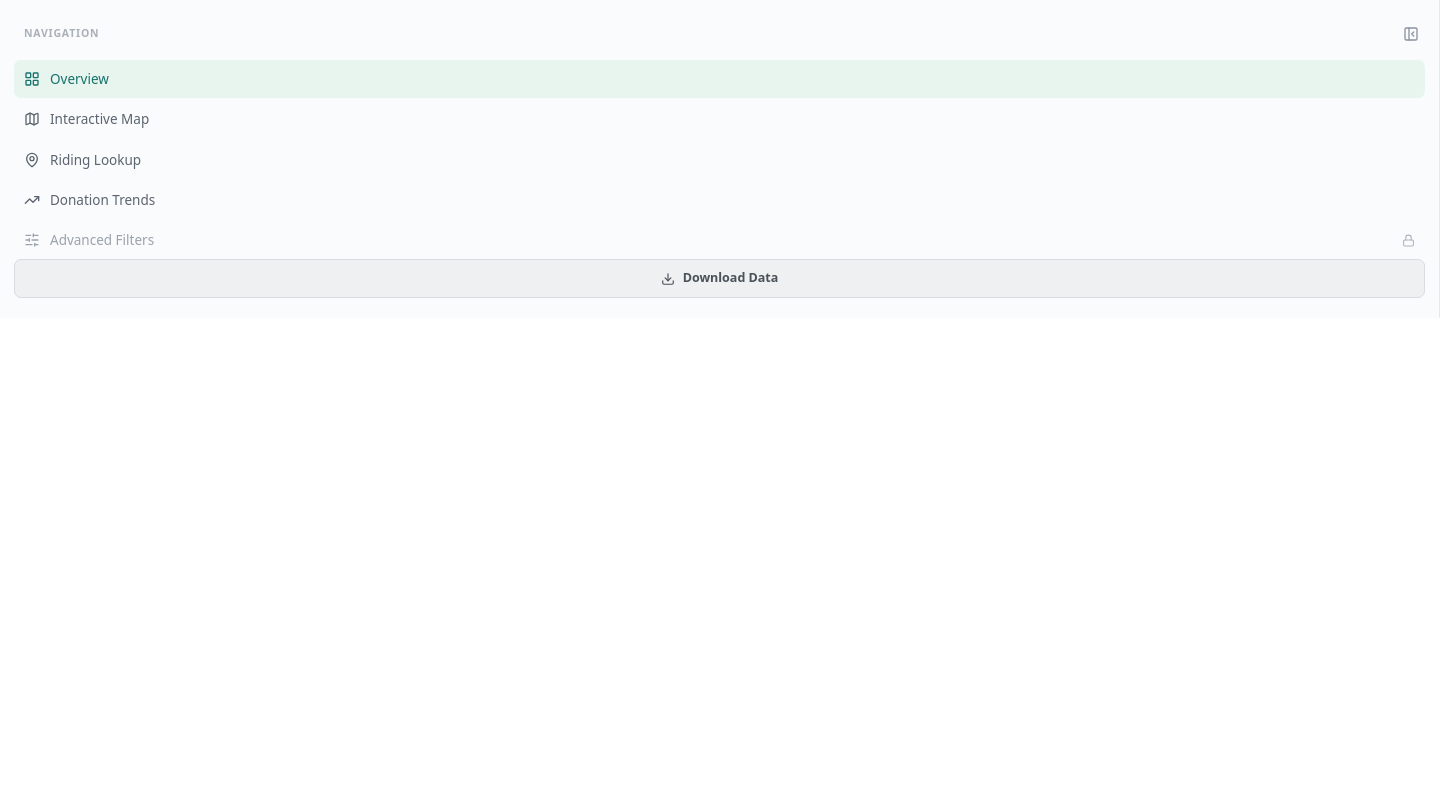
Test: Sidebar — locked dialog › opens a sign-in dialog when the locked item is clicked
Click the button "Advanced Filters" at (102, 240), box [14, 221, 1425, 259]
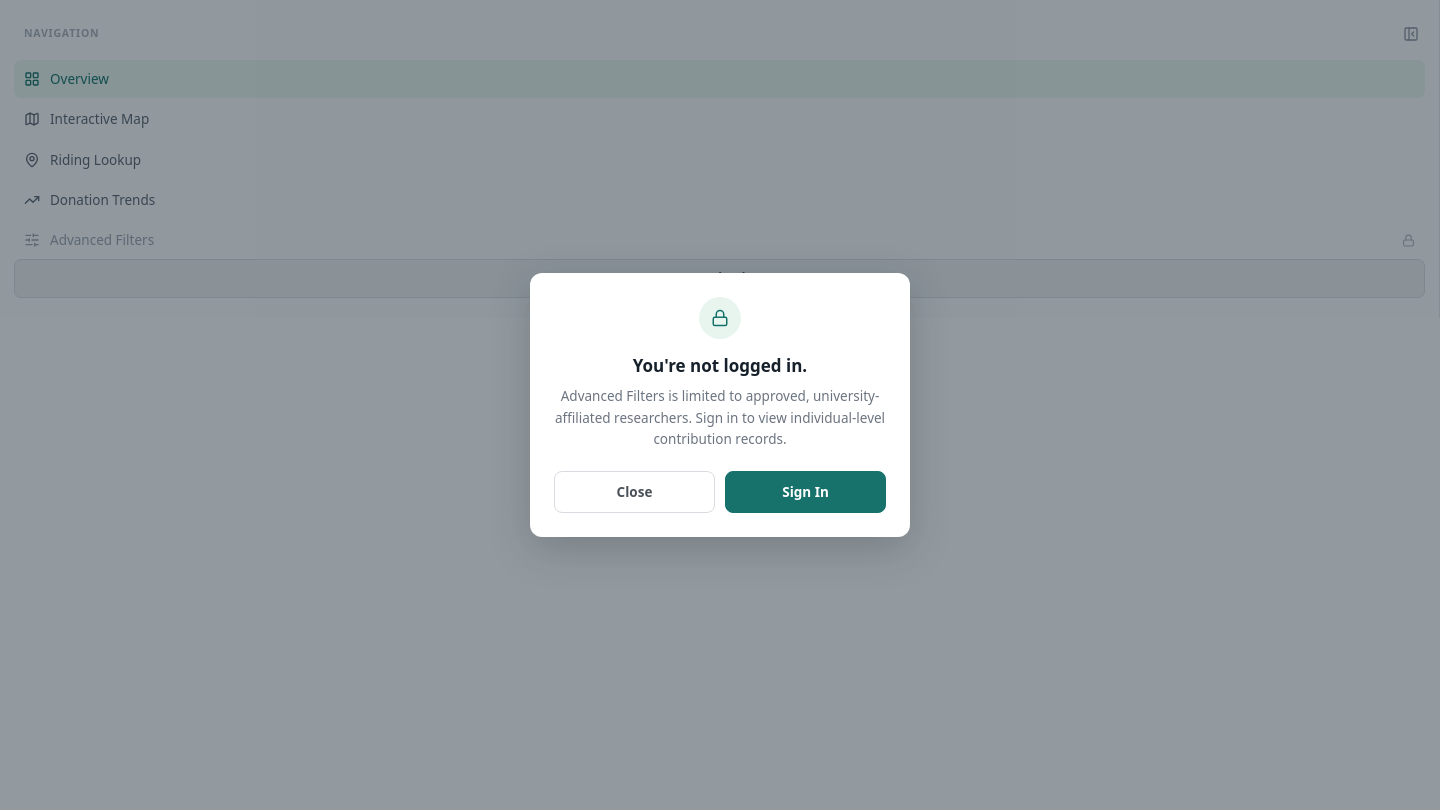
Now the dialog is shown, box [530, 273, 910, 537]
Now the heading "You're not logged in." is shown, box [633, 354, 807, 377]
